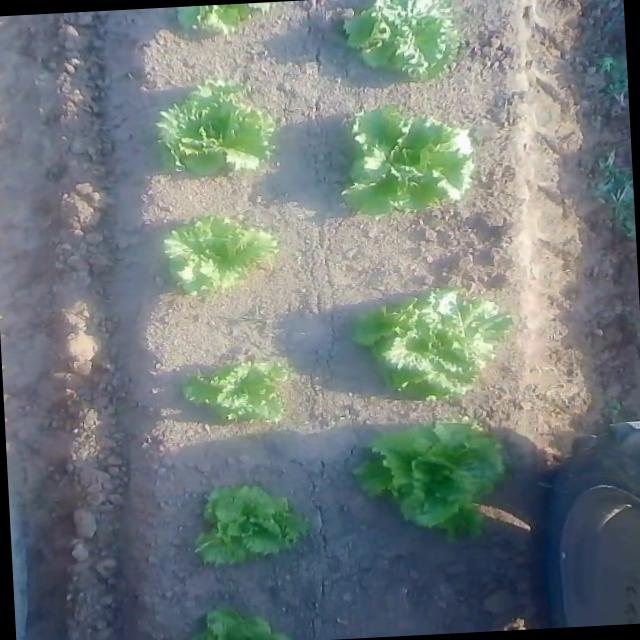Lettuce-Ready-to-Harvest: (350, 416, 512, 549), (354, 286, 518, 404), (338, 98, 477, 216), (152, 76, 281, 178), (191, 480, 310, 569), (162, 213, 280, 298), (178, 357, 293, 429)
